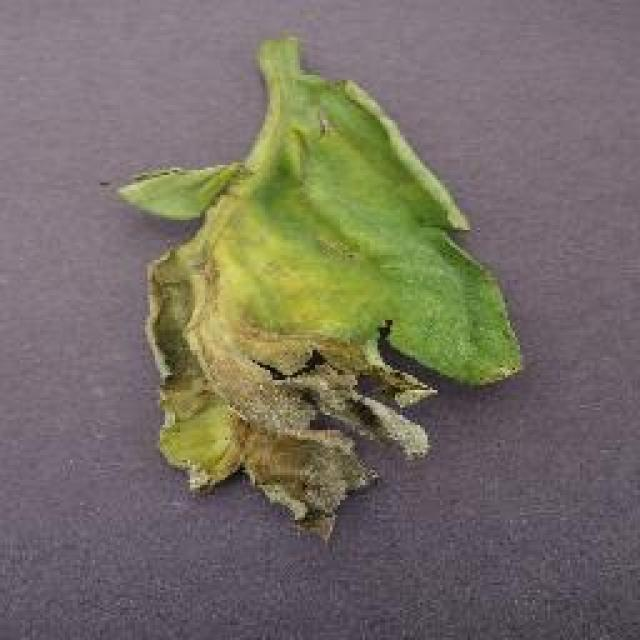Tomato Late Blight: (128, 182, 427, 550)
